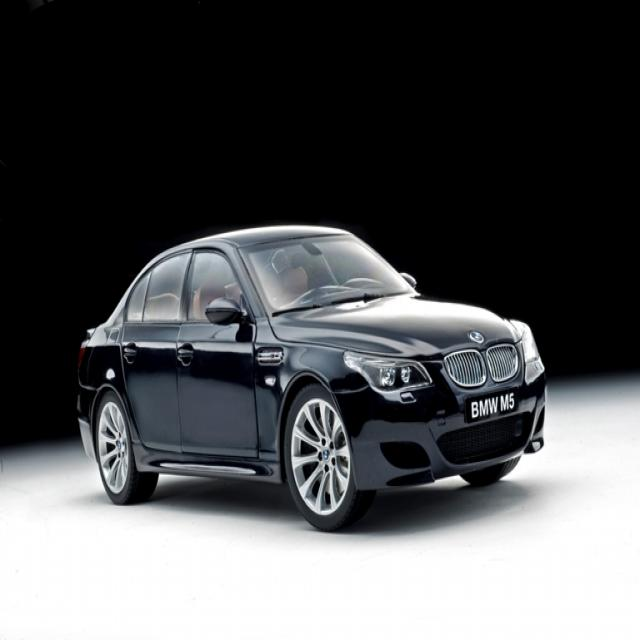car: (56, 218, 551, 527)
